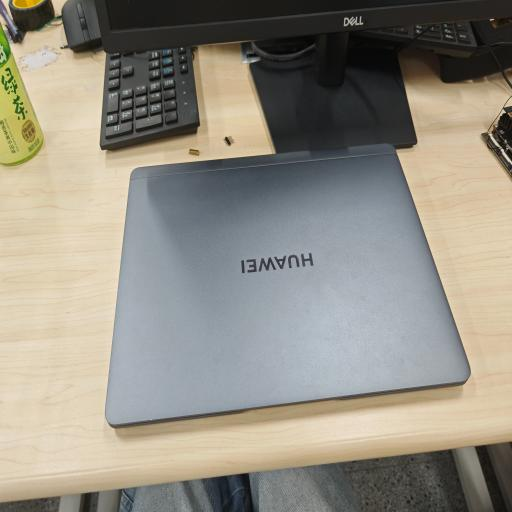laptop: (105, 144, 470, 427)
mouse: (62, 0, 102, 52)
